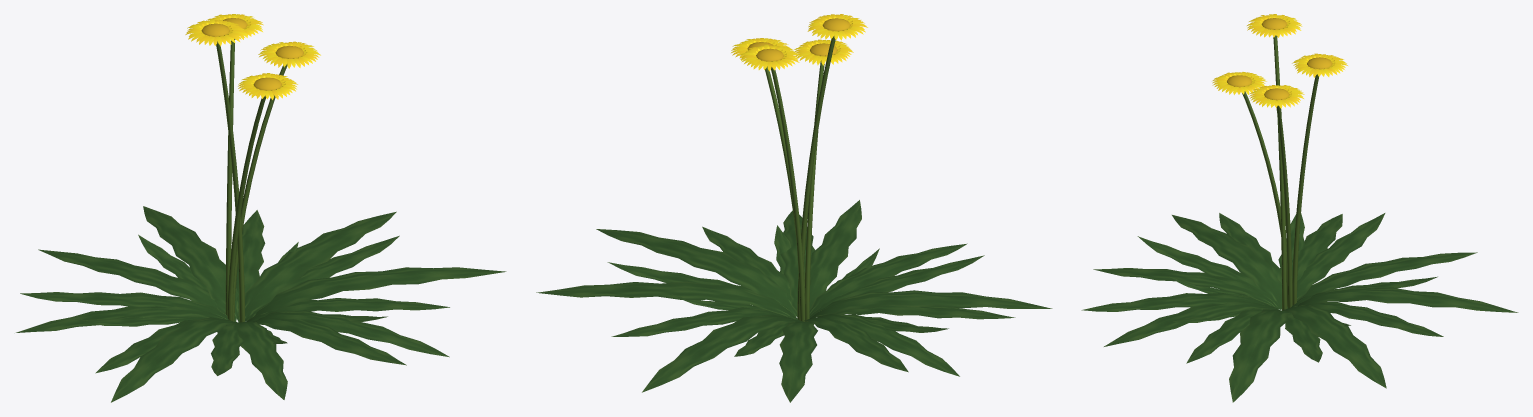
The model's file is dandelion.glb.
3 renders of one model, left to right at view 1: azimuth 30°, elevation 25°; view 2: azimuth 150°, elevation 25°; view 3: azimuth 270°, elevation 25°, orthographic. The views are drawn at different scales.
Parts seen in each view (by area): view 1: Foliage, Stems, Flowers; view 2: Foliage, Stems, Flowers; view 3: Foliage, Stems, Flowers.
Boxes of the visible parts, x1,y1,x2,y2 form: Foliage: (16,206,506,402); Stems: (216,39,287,322); Flowers: (185,14,320,99); Foliage: (536,200,1052,402); Stems: (765,36,835,321); Flowers: (731,14,867,71); Foliage: (1081,213,1518,402); Stems: (1242,35,1318,310); Flowers: (1212,14,1347,108).
Size of the model in its own units: 0.4094 by 0.28 by 0.399.
3 materials, 1 textured.
